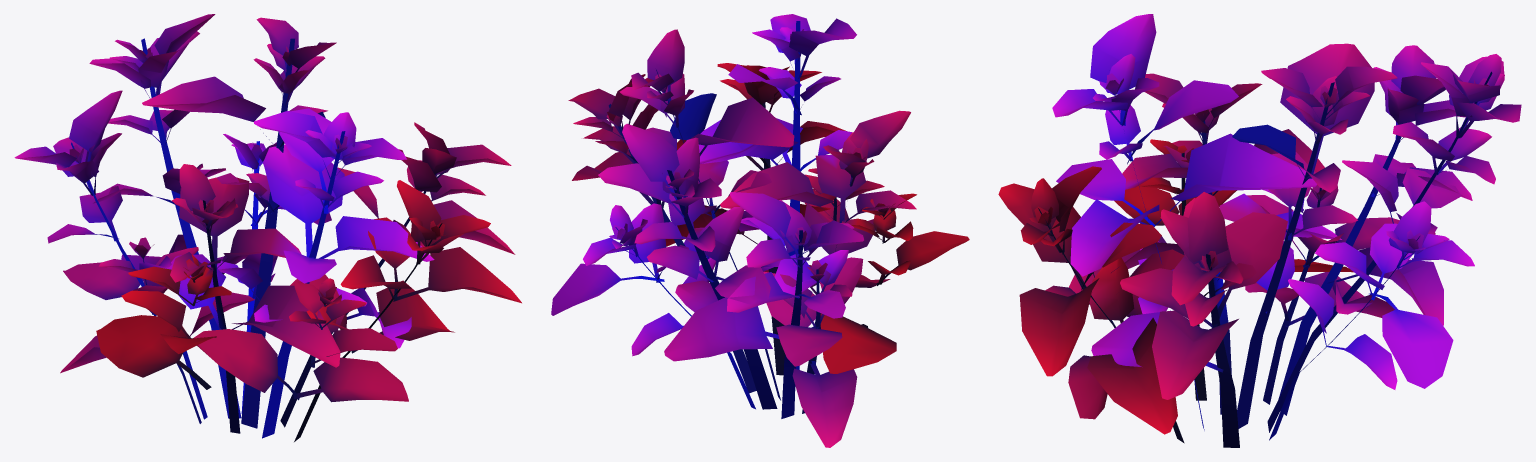
The model's file is Lemon_Balm_umslacdia_Mid_umslacdia_VarD_LOD2.fbx.
3 views of the same model, side by side, from view 1: azimuth 30°, elevation 25°; view 2: azimuth 150°, elevation 25°; view 3: azimuth 270°, elevation 25° (orthographic). The views are drawn at different scales.
Parts seen in each view (by area): view 1: _20ml_VarD_LOD4; view 2: _20ml_VarD_LOD4; view 3: _20ml_VarD_LOD4.
Part boxes in pixels (x1=…): _20ml_VarD_LOD4: x1=14, y1=14, x2=521, y2=441; _20ml_VarD_LOD4: x1=551, y1=14, x2=969, y2=447; _20ml_VarD_LOD4: x1=998, y1=14, x2=1521, y2=447.
Bounding box in the file's own units: 49.26 × 42.35 × 48.52.
